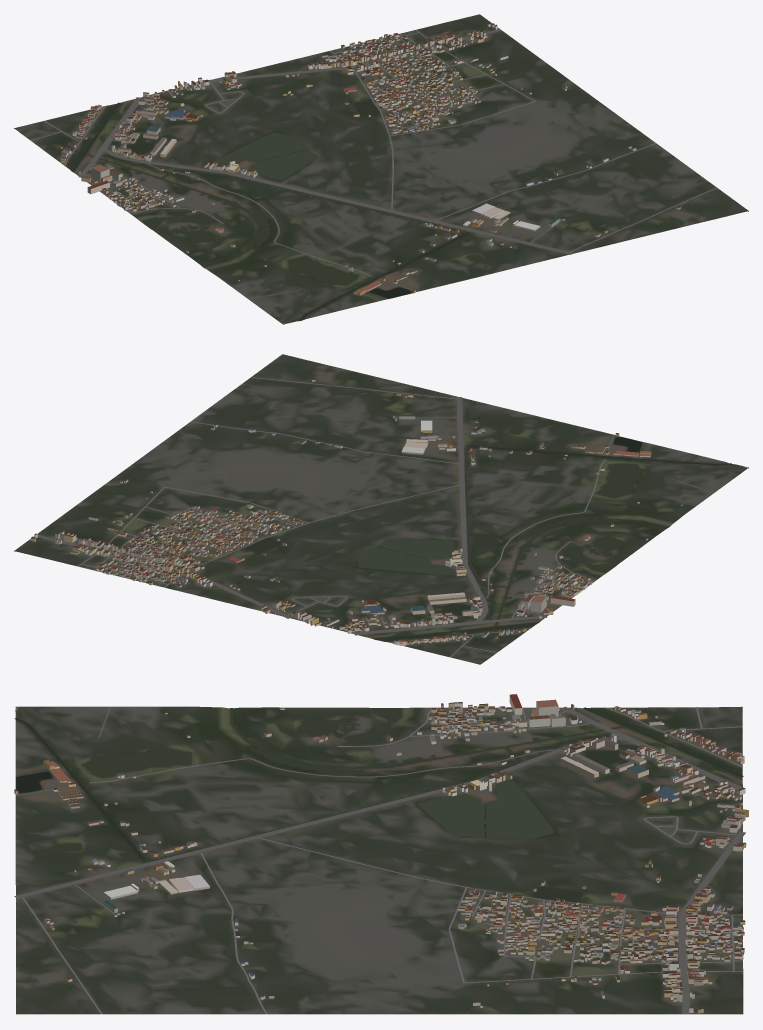
3 views of the same model, one above another, from view 1: azimuth 30°, elevation 25°; view 2: azimuth 150°, elevation 25°; view 3: azimuth 270°, elevation 25° (orthographic). The views are drawn at different scales.
Parts seen in each view (by area): view 1: ground, buildings, water, roads; view 2: ground, buildings, water, roads; view 3: ground, buildings, water, roads.
Part boxes in pixels (x1,y1,x2,y2): ground: (14,14,748,324); buildings: (60,23,680,295); water: (72,100,689,320); roads: (31,29,717,324); ground: (14,354,748,664); buildings: (31,378,682,645); water: (245,370,731,640); roads: (37,377,747,657); ground: (15,706,743,1014); buildings: (14,694,748,1013); water: (14,707,743,978); roads: (14,706,745,1014).
Bounding box in the file's own units: 1434 × 32.5 × 1417.
